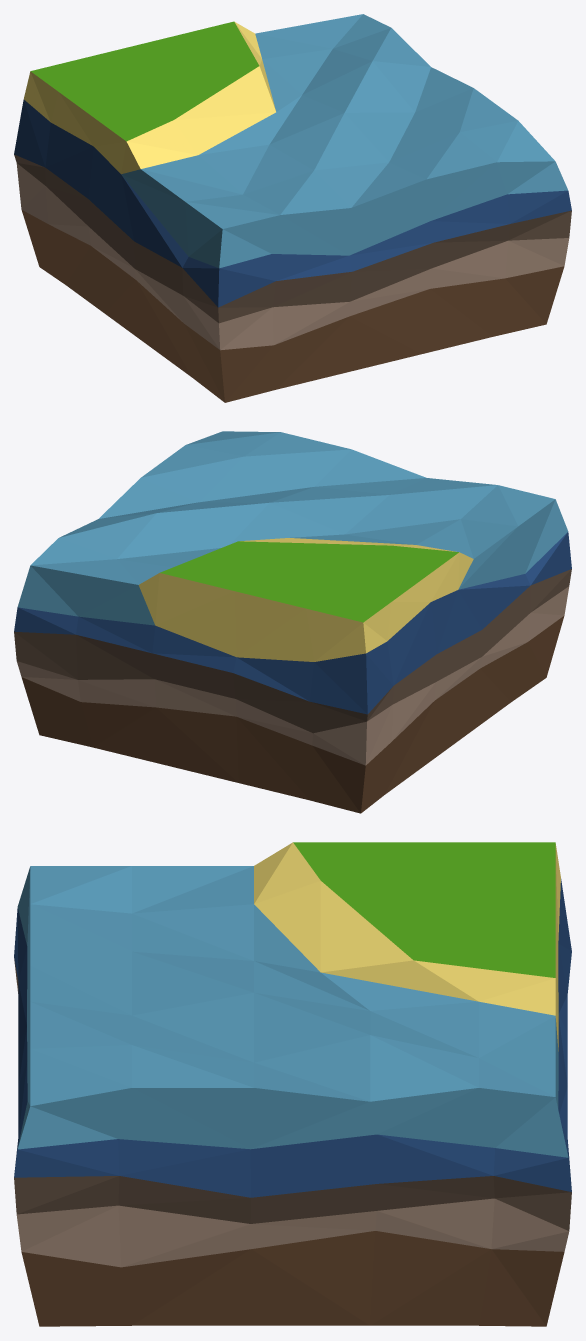
File: Isl_14_Base.fbx
3 views of the same model, one above another, from view 1: azimuth 30°, elevation 25°; view 2: azimuth 150°, elevation 25°; view 3: azimuth 270°, elevation 25° (orthographic). The views are drawn at different scales.
Parts seen in each view (by area): view 1: Isl_14_Base; view 2: Isl_14_Base; view 3: Isl_14_Base.
Boxes of the visible parts, x1=… form: Isl_14_Base: x1=14, y1=14, x2=571, y2=402; Isl_14_Base: x1=14, y1=431, x2=571, y2=813; Isl_14_Base: x1=14, y1=842, x2=571, y2=1326.
Size of the model in its own units: 2125 by 2125 by 1118.
Materials: 1 (1 with a texture image).
